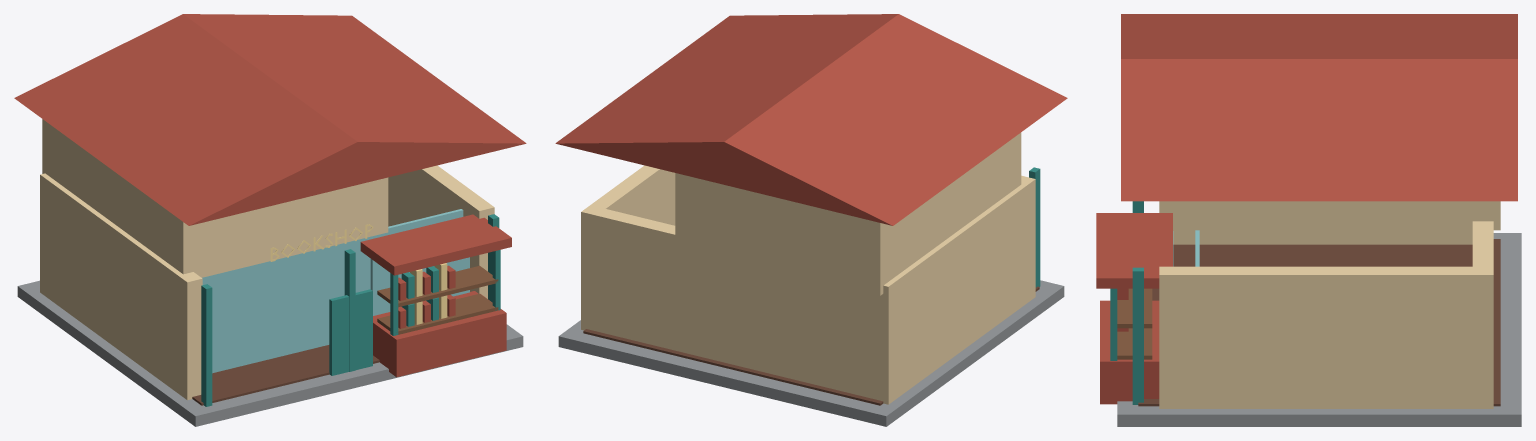
Rendered from library.glb.
3 views of the same model, side by side, from view 1: azimuth 30°, elevation 25°; view 2: azimuth 150°, elevation 25°; view 3: azimuth 270°, elevation 25° (orthographic). The views are drawn at different scales.
Visible parts, largest first — view 1: gable_roof, side_wall, upper_storey, window_back, foundation, bay_base, bay_cap, side_wall.001, floor, door, front_post, bay_shelf.001 (+7 smaller); view 2: gable_roof, rear_wall, upper_storey, side_wall, foundation, side_wall.001, floor, front_post; view 3: gable_roof, side_wall.001, foundation, upper_storey, floor, bay_cap, side_wall, rear_wall, bay_base, front_post.002, bay_shelf.001, bay_shelf (+1 smaller).
Boxes of the visible parts, left/top/right/bottom form: gable_roof: left=14, top=14, right=526, bottom=225; side_wall: left=46, top=180, right=202, bottom=400; upper_storey: left=42, top=119, right=388, bottom=277; window_back: left=202, top=209, right=463, bottom=373; foundation: left=17, top=280, right=523, bottom=426; bay_base: left=373, top=291, right=506, bottom=377; bay_cap: left=360, top=214, right=511, bottom=275; side_wall.001: left=388, top=165, right=494, bottom=298; floor: left=192, top=345, right=379, bottom=405; door: left=329, top=289, right=372, bottom=375; front_post: left=201, top=284, right=212, bottom=406; bay_shelf.001: left=377, top=265, right=498, bottom=307; gable_roof: left=555, top=14, right=1067, bottom=225; rear_wall: left=581, top=206, right=897, bottom=404; upper_storey: left=675, top=132, right=1021, bottom=295; side_wall: left=893, top=175, right=1035, bottom=399; foundation: left=558, top=280, right=1064, bottom=426; side_wall.001: left=587, top=165, right=675, bottom=225; floor: left=583, top=286, right=1039, bottom=405; front_post: left=1029, top=167, right=1040, bottom=287; gable_roof: left=1121, top=14, right=1517, bottom=201; side_wall.001: left=1159, top=266, right=1479, bottom=408; foundation: left=1117, top=233, right=1521, bottom=426; upper_storey: left=1180, top=201, right=1500, bottom=230; floor: left=1138, top=239, right=1500, bottom=406; bay_cap: left=1096, top=213, right=1172, bottom=288; side_wall: left=1159, top=201, right=1472, bottom=244; rear_wall: left=1472, top=221, right=1493, bottom=408; bay_base: left=1100, top=300, right=1159, bottom=404; front_post.002: left=1132, top=267, right=1143, bottom=404; bay_shelf.001: left=1117, top=288, right=1152, bottom=328; bay_shelf: left=1117, top=328, right=1152, bottom=359.
Bounding box in the file's own units: 6.6 × 4.55 × 6.33.
